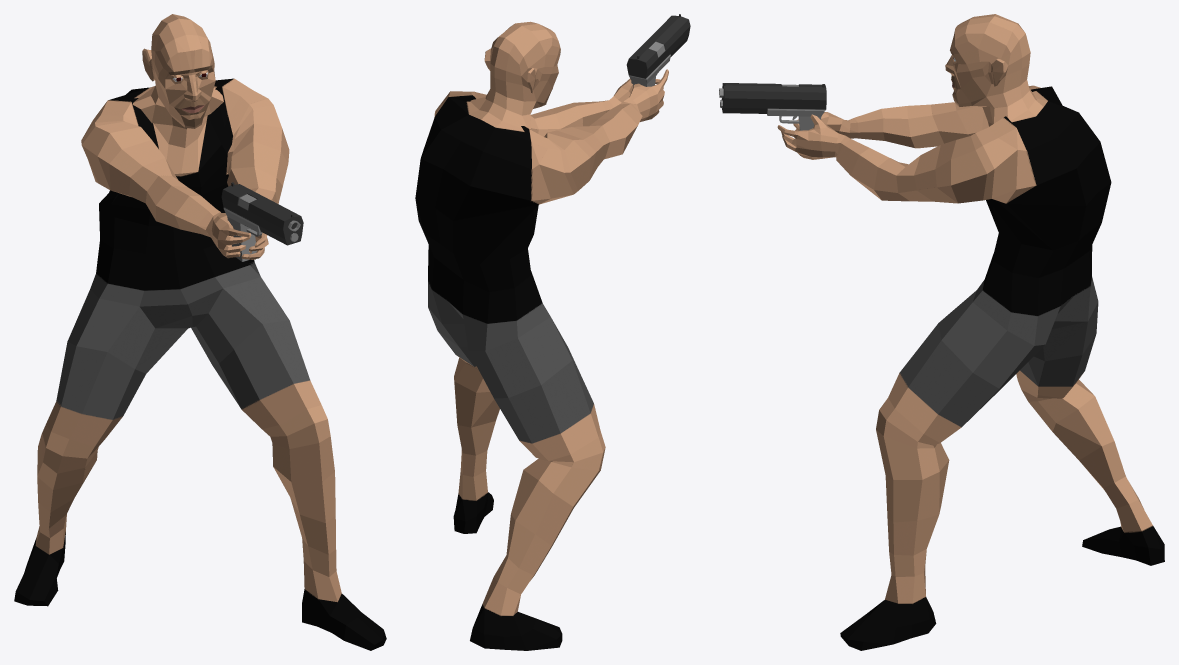
The model's file is PlayerShoot(19).obj.
The picture shows the model from 3 angles, left to right: view 1: azimuth 30°, elevation 25°; view 2: azimuth 150°, elevation 25°; view 3: azimuth 270°, elevation 25°; orthographic projection. The views are drawn at different scales.
Visible parts, largest first — view 1: Plane002, Box003; view 2: Plane002, Box003; view 3: Plane002, Box003.
Boxes of the visible parts, box(x1,y1,x2,y2) form: Plane002: box(14, 14, 386, 650); Box003: box(221, 182, 303, 261); Plane002: box(415, 21, 668, 650); Box003: box(626, 14, 690, 86); Plane002: box(777, 14, 1164, 650); Box003: box(719, 83, 826, 130).
Bounding box in the file's own units: 718 × 1665 × 1177.
